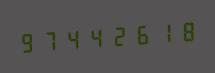eight: (171, 15, 192, 47)
four: (83, 21, 104, 53), (61, 23, 82, 54)
nine: (17, 26, 38, 57)
one: (149, 17, 170, 48)
seven: (39, 24, 60, 56)
six: (127, 18, 148, 50)
two: (105, 20, 126, 51)
